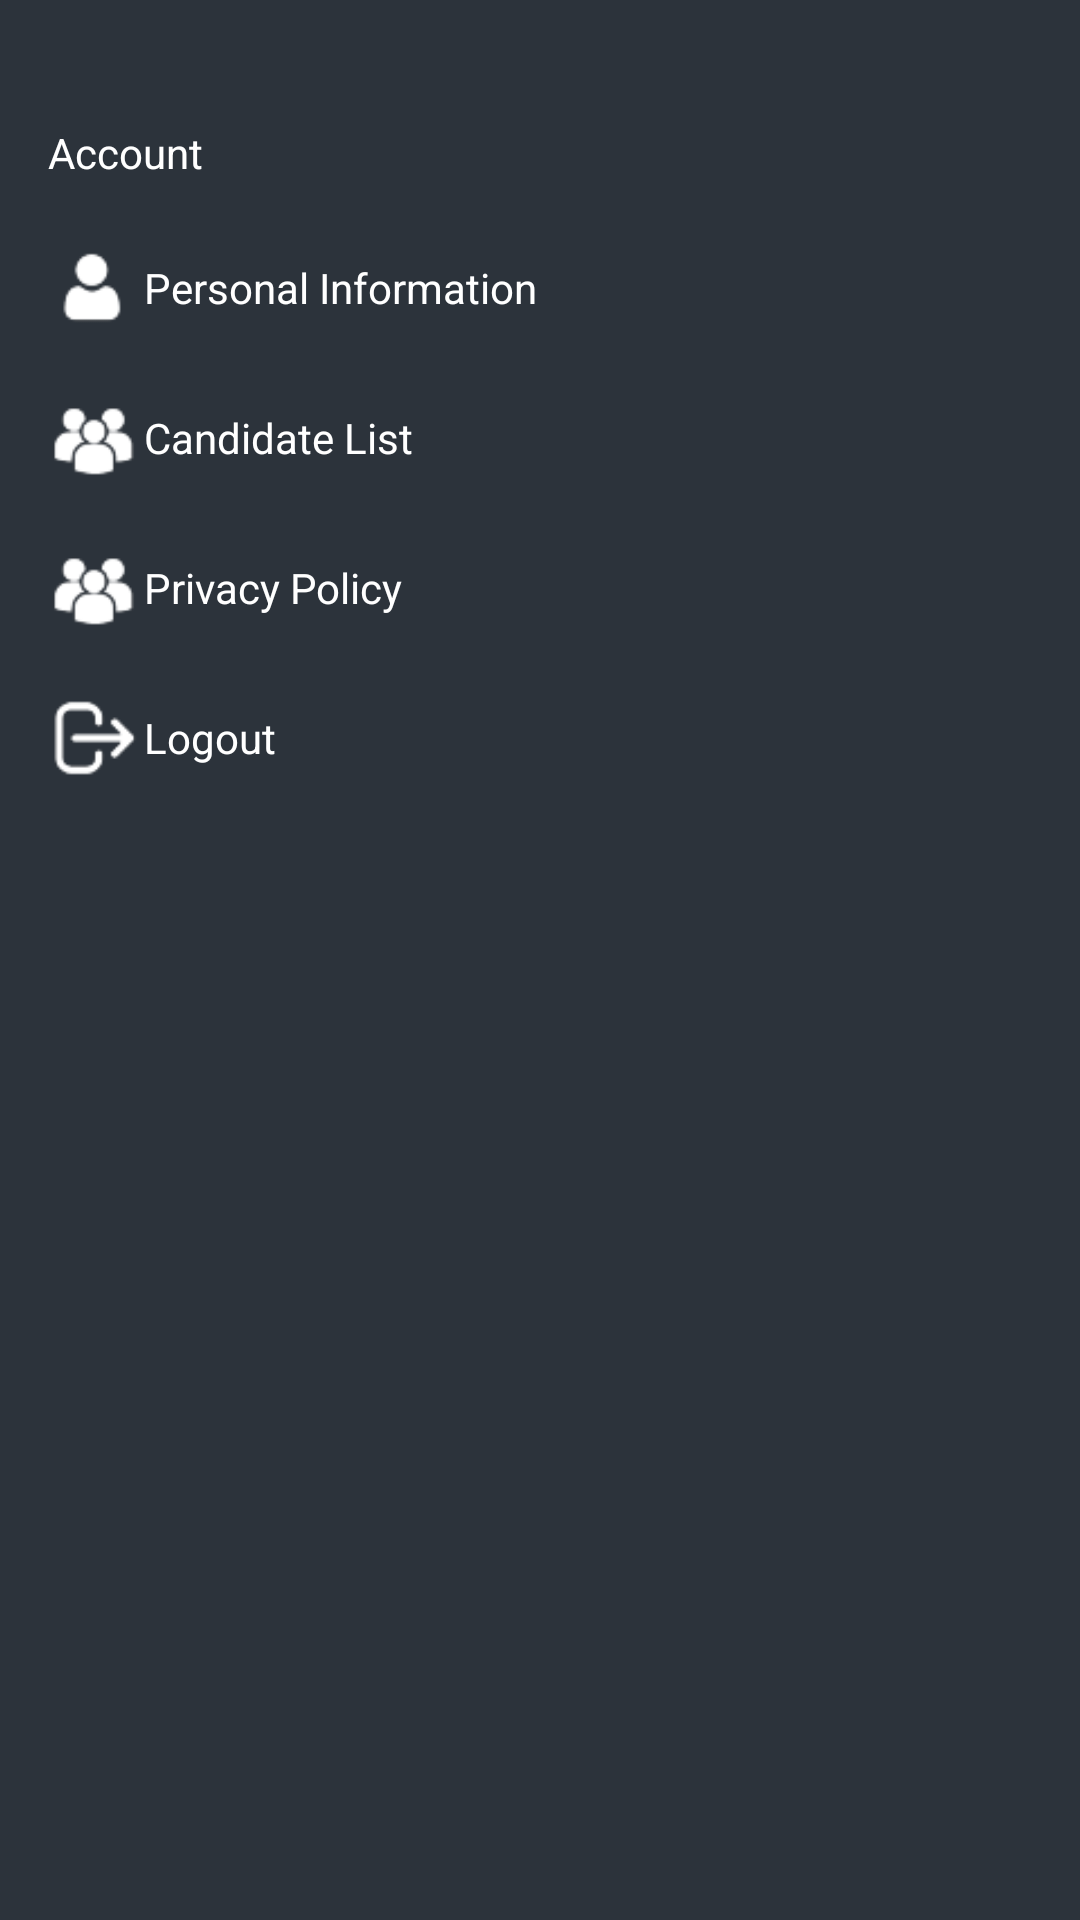

Where to tap for icons on this 1080x1920 app screen, as [x,y]:
usericon: [92,287]
